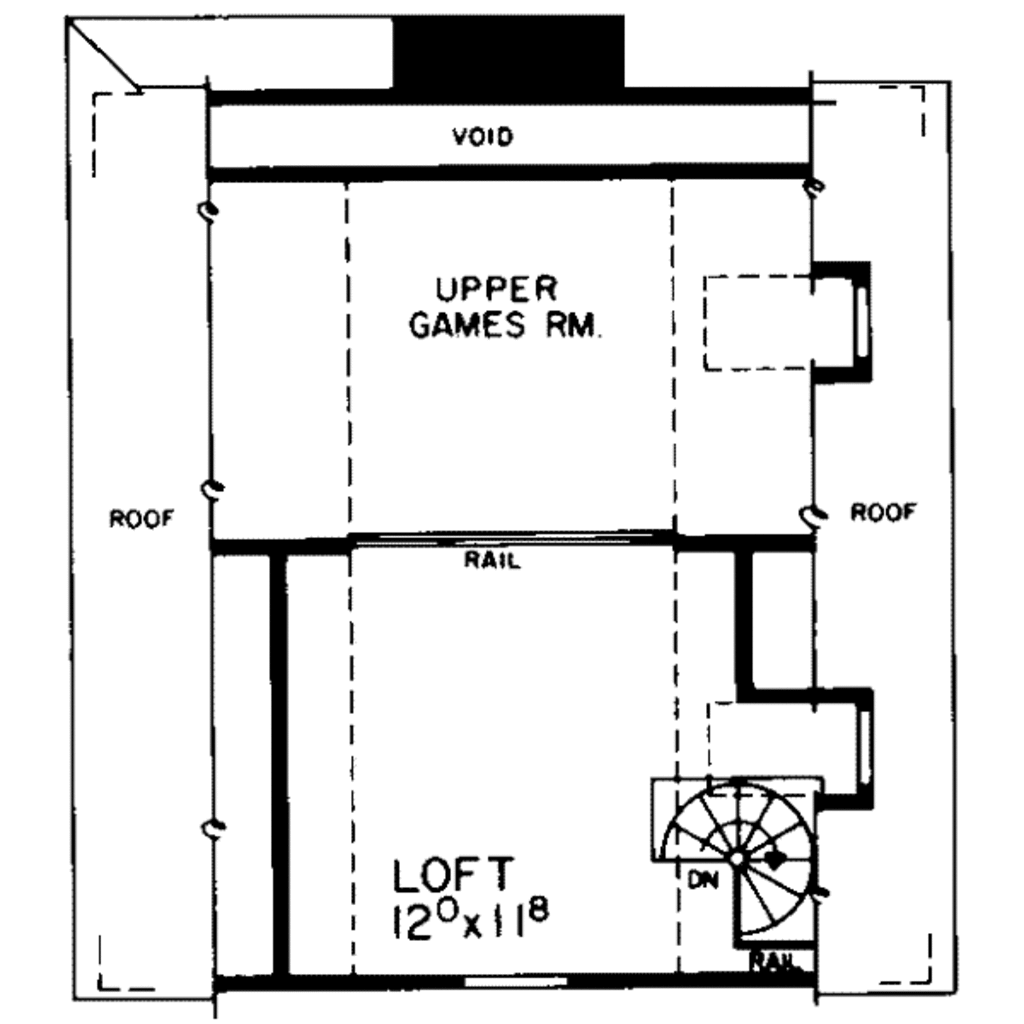stairs: (644, 776, 820, 950)
windows: (847, 276, 881, 368), (850, 707, 877, 792)
